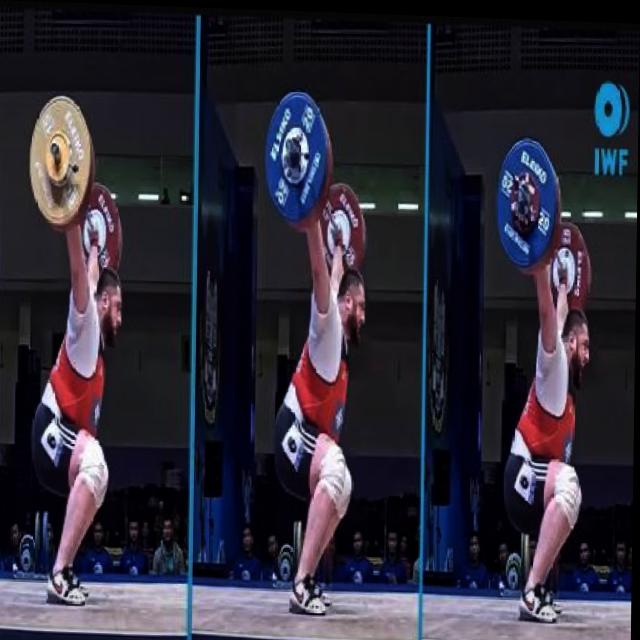barbell: (23, 86, 93, 232), (261, 80, 330, 228), (494, 125, 560, 266)
